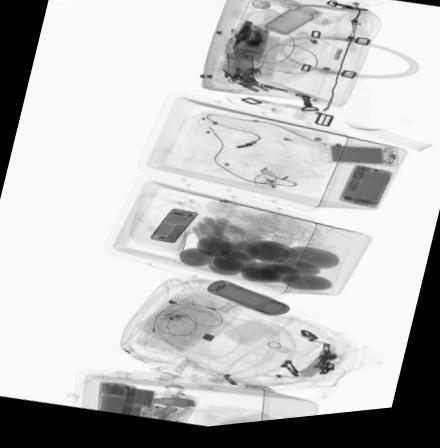Powerbank: (326, 150, 399, 177)
